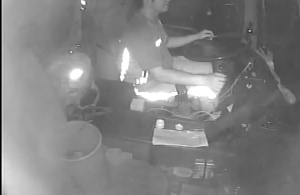cup: (154, 118, 166, 131)
